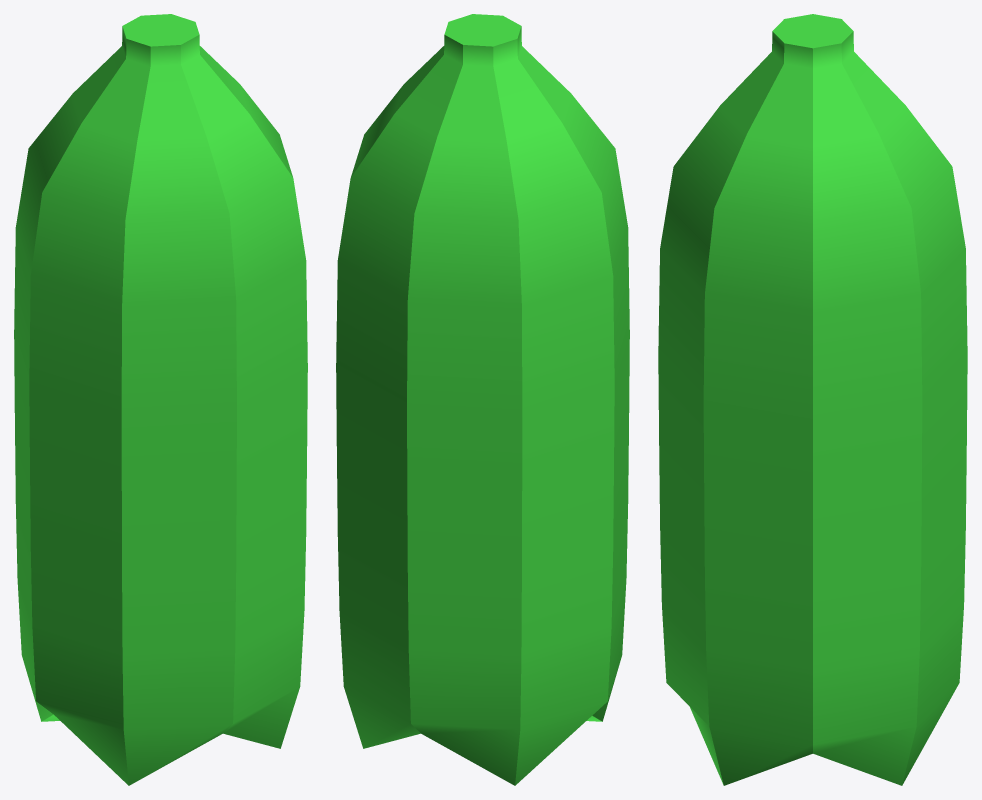
The model's file is BigSoda.fbx.
3 renders of one model, left to right at view 1: azimuth 30°, elevation 25°; view 2: azimuth 150°, elevation 25°; view 3: azimuth 270°, elevation 25°, orthographic.
Parts seen in each view (by area): view 1: BigSoda; view 2: BigSoda; view 3: BigSoda.
Part boxes in pixels (box(x1,y1,x2,y2)): BigSoda: box(14, 14, 307, 785); BigSoda: box(336, 14, 629, 785); BigSoda: box(658, 14, 967, 785).
Bounding box in the file's own units: 6.55 × 16.75 × 6.55.
